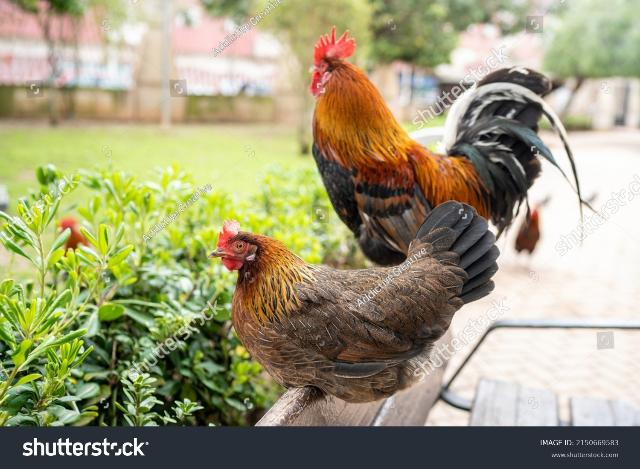Chicken: (209, 201, 497, 408), (310, 26, 555, 268)
